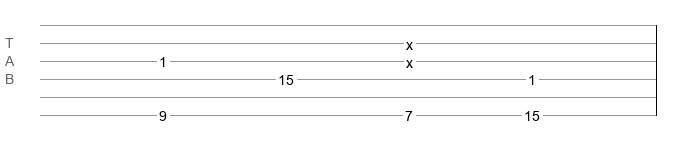1: (159, 54, 167, 64), (528, 72, 536, 82)
15: (278, 72, 294, 82), (524, 108, 540, 118)
7: (405, 108, 413, 118)
9: (159, 108, 167, 118)
x: (406, 55, 413, 63), (406, 37, 413, 45)
